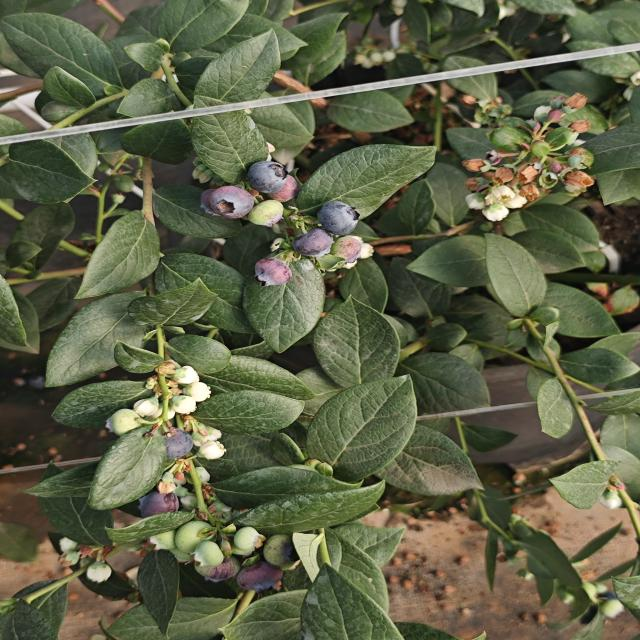ripe: (198, 184, 256, 222), (233, 559, 285, 595), (314, 200, 362, 238), (244, 159, 291, 196), (289, 227, 337, 261), (133, 488, 184, 518), (250, 256, 294, 289), (157, 430, 193, 460)
